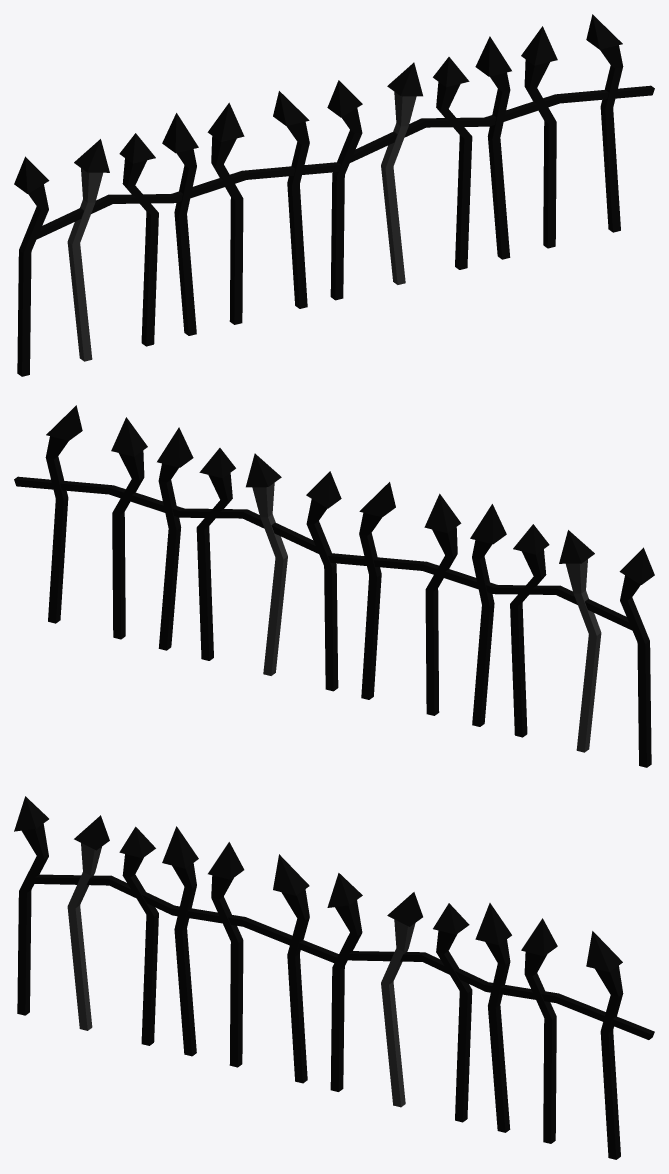
The model's file is MURANASA_CODICAS.fbx.
3 renders of one model, top to bottom at view 1: azimuth 30°, elevation 25°; view 2: azimuth 150°, elevation 25°; view 3: azimuth 330°, elevation 25°, orthographic.
Visible parts, largest first — view 1: Cube.003; view 2: Cube.003; view 3: Cube.003.
Part boxes in pixels (x1,y1,x2,y2): Cube.003: [14, 14, 654, 376]; Cube.003: [14, 405, 654, 767]; Cube.003: [14, 796, 654, 1159].
Size of the model in its own units: 1924 by 652 by 71.21.
